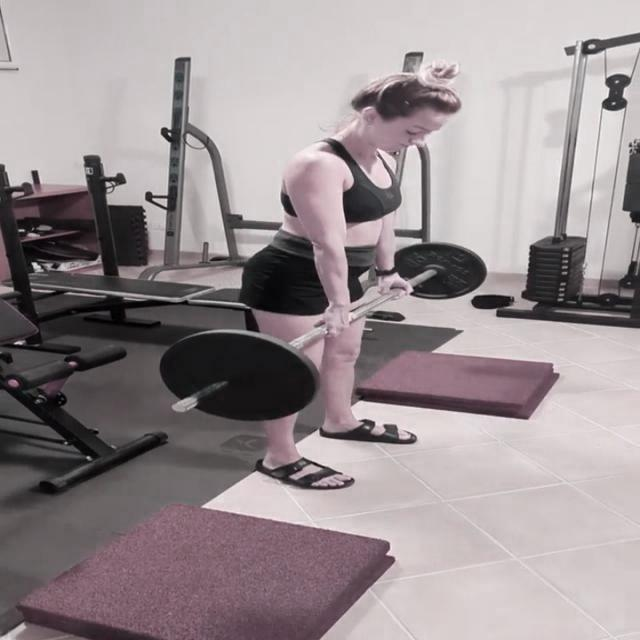barbell: (155, 327, 325, 425)
